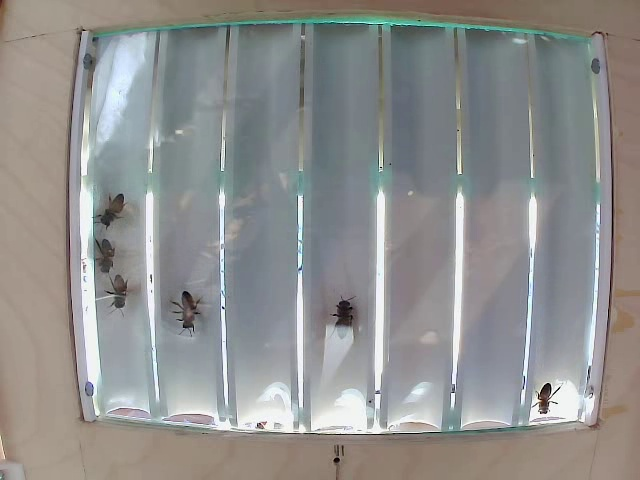bee: (325, 291, 362, 346), (178, 292, 210, 342), (95, 275, 137, 312), (102, 188, 129, 229), (91, 238, 121, 273)
